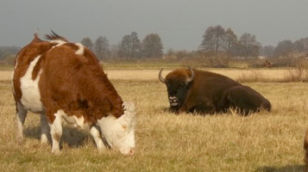zubr: (154, 62, 285, 124)
